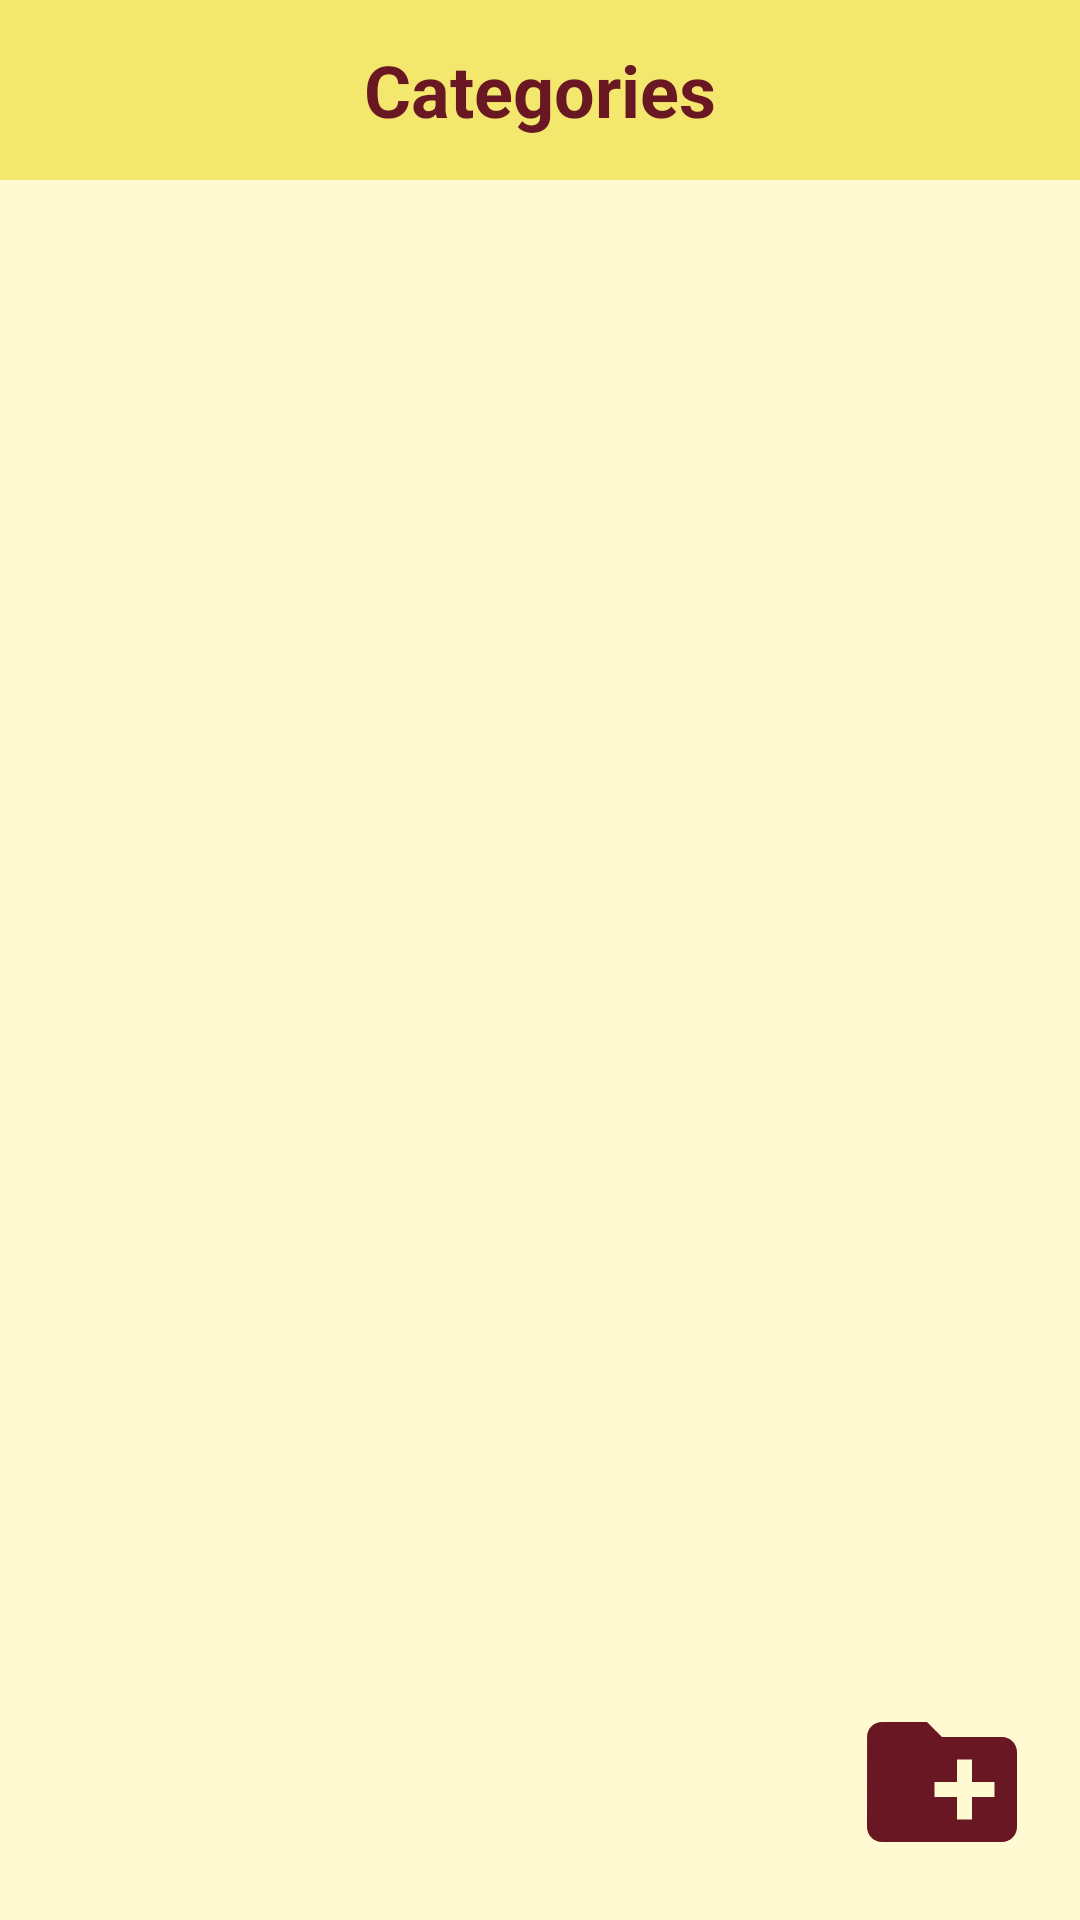

Screen size 1080 x 1920. Icon name, then its box in pixels as [left=x1, top=y1, right=x2, bottom=y2]:
add folder: [left=867, top=1722, right=1017, bottom=1842]
